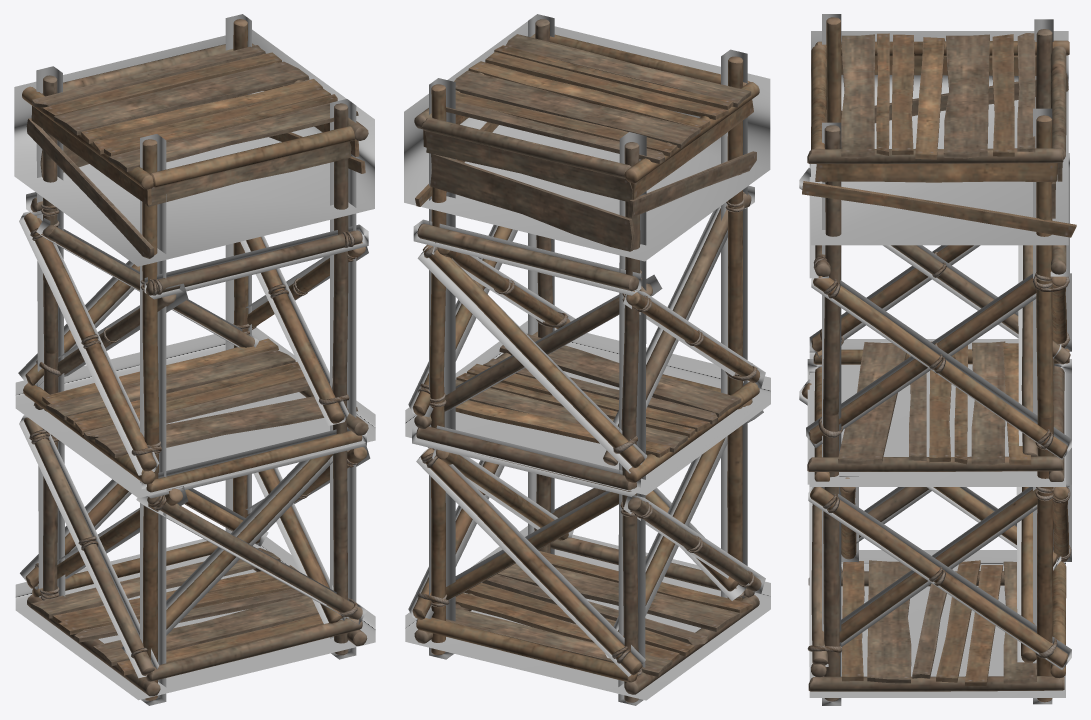
File: SM_Wooden_Scaffolding_01a.gltf
The picture shows the model from 3 angles, left to right: view 1: azimuth 30°, elevation 25°; view 2: azimuth 150°, elevation 25°; view 3: azimuth 270°, elevation 25°; orthographic projection. The views are drawn at different scales.
Visible parts, largest first — view 1: SM_Wooden_Scaffolding_01a_LOD0, SM_Wooden_Scaffolding_01a_ConvexHulls; view 2: SM_Wooden_Scaffolding_01a_LOD0, SM_Wooden_Scaffolding_01a_ConvexHulls; view 3: SM_Wooden_Scaffolding_01a_LOD0, SM_Wooden_Scaffolding_01a_ConvexHulls.
Boxes of the visible parts, x1=… form: SM_Wooden_Scaffolding_01a_LOD0: x1=22, y1=19, x2=368, y2=700; SM_Wooden_Scaffolding_01a_ConvexHulls: x1=14, y1=14, x2=375, y2=705; SM_Wooden_Scaffolding_01a_LOD0: x1=412, y1=19, x2=761, y2=702; SM_Wooden_Scaffolding_01a_ConvexHulls: x1=404, y1=14, x2=770, y2=705; SM_Wooden_Scaffolding_01a_LOD0: x1=801, y1=17, x2=1076, y2=702; SM_Wooden_Scaffolding_01a_ConvexHulls: x1=799, y1=14, x2=1071, y2=705.
Size of what is drawn, in the model's own units: 2.88 by 6.51 by 2.79.
Materials: 3 (2 with a texture image).
